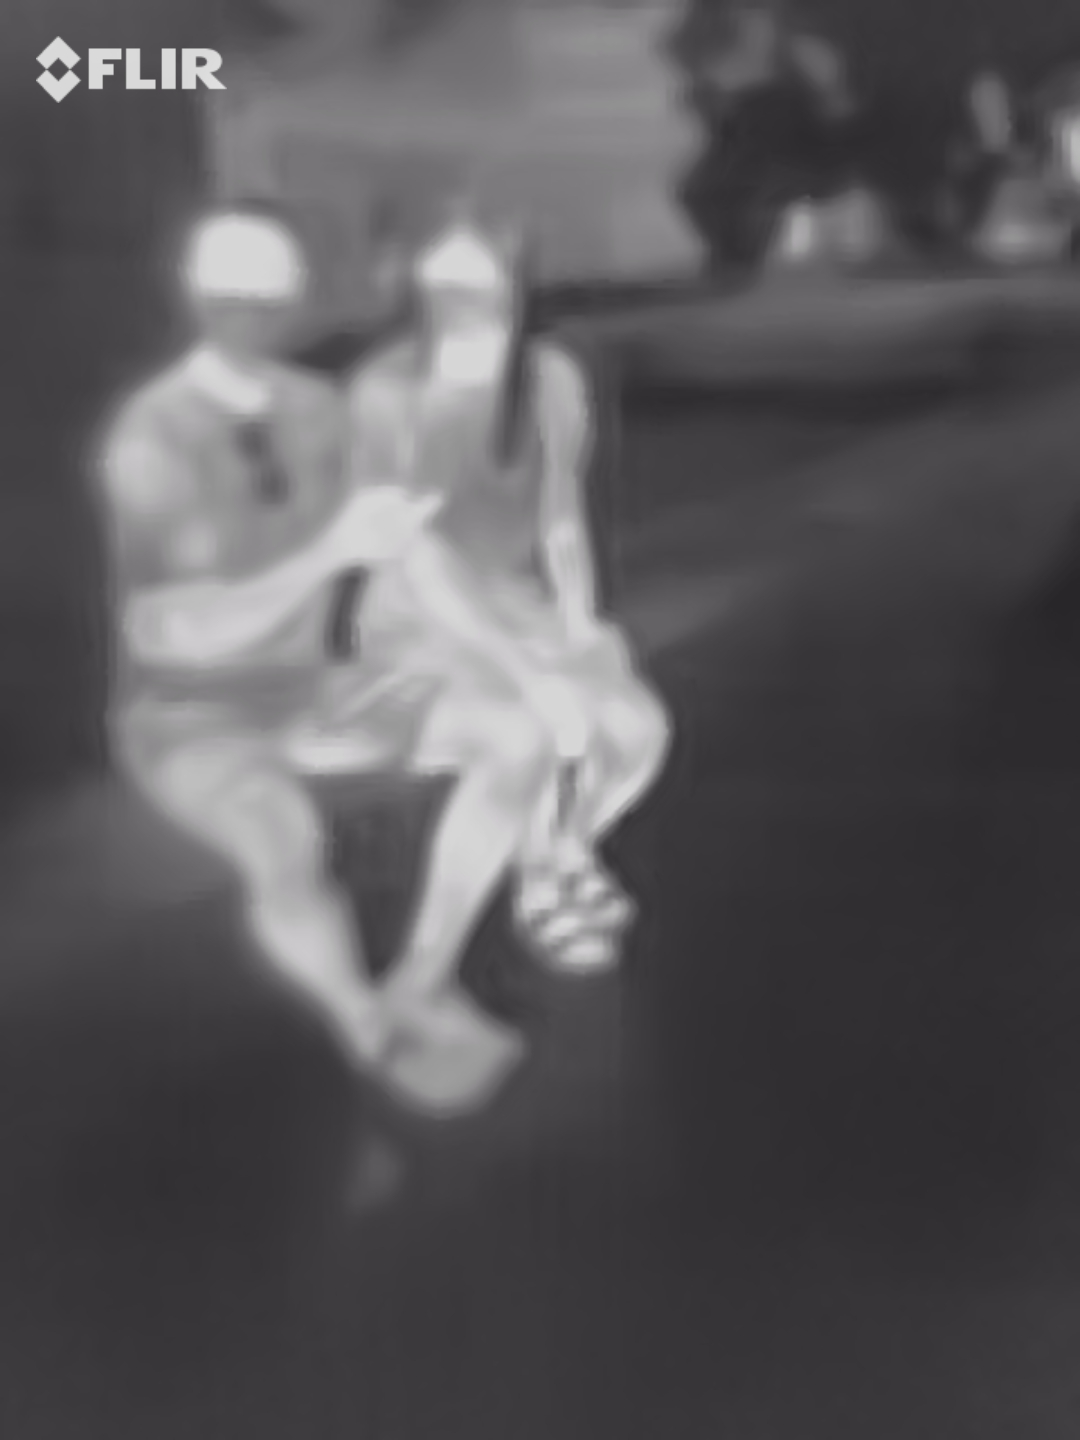head: (176, 200, 321, 374), (401, 194, 539, 366)
